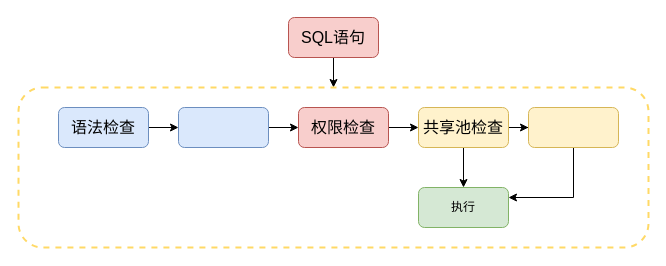
Image size: 666x266. Some labels were removed from this diagram. Each missing label, with the centre of its shape:
优化器: [573,127]
语义检查: [223,127]
